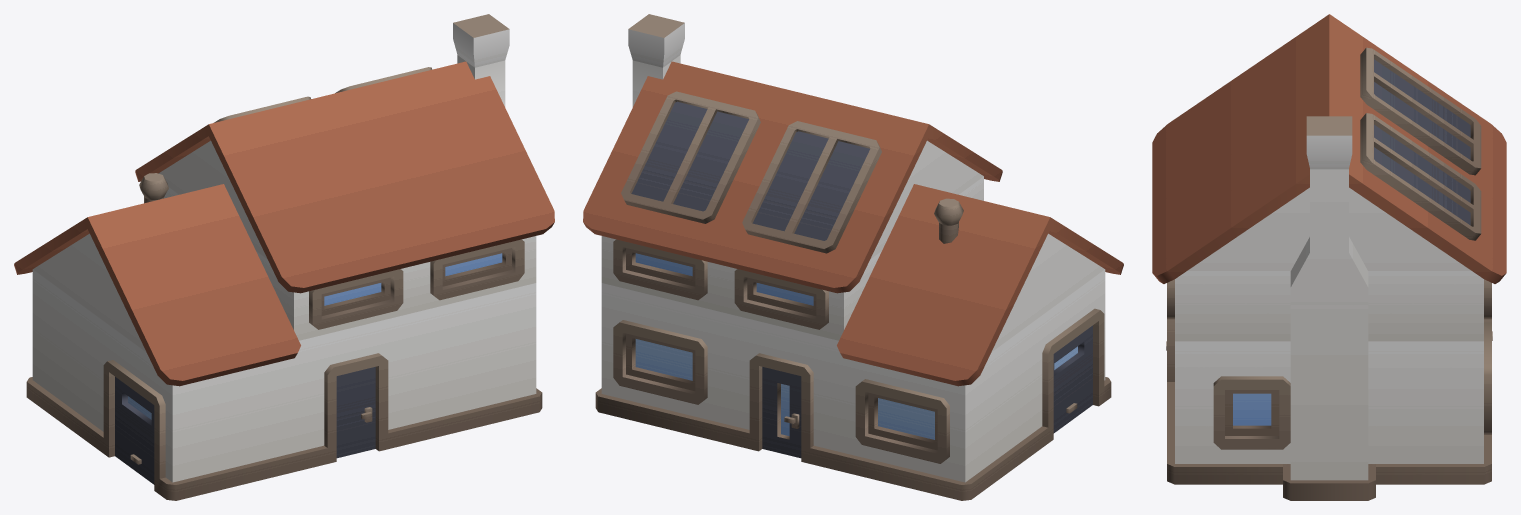
The model's file is sub-building-type-j.glb.
The picture shows the model from 3 angles, left to right: view 1: azimuth 30°, elevation 25°; view 2: azimuth 150°, elevation 25°; view 3: azimuth 270°, elevation 25°; orthographic projection. The views are drawn at different scales.
Parts seen in each view (by area): view 1: building-type-j; view 2: building-type-j; view 3: building-type-j.
Boxes of the visible parts, box(x1,y1,x2,y2) form: building-type-j: box(14, 14, 554, 500); building-type-j: box(583, 14, 1123, 500); building-type-j: box(1152, 14, 1506, 500).
Bounding box in the file's own units: 1.37 × 1.04 × 0.9161.
Materials: 1 (1 with a texture image).
